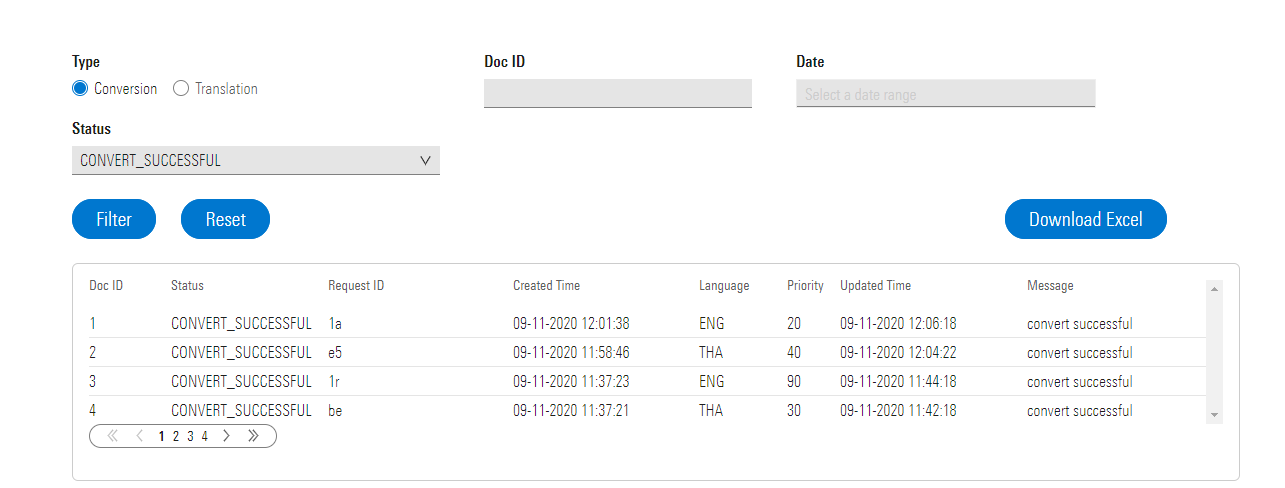div_rect: (68, 259, 1244, 483), (71, 142, 442, 178), (792, 76, 1098, 108), (480, 76, 755, 109)
div_round: (1005, 198, 1168, 241), (87, 423, 277, 450), (178, 198, 271, 240), (70, 197, 156, 240)
down_arrow: (419, 154, 432, 164)
left_arrow: (135, 428, 146, 443)
leftd_arrow: (106, 428, 119, 443)
radio: (70, 79, 88, 96), (171, 80, 190, 96)
right_arrow: (221, 428, 231, 442)
rightd_arrow: (246, 428, 259, 444)
scroll: (1203, 279, 1223, 424)
text: (170, 343, 313, 361), (80, 151, 222, 169), (170, 372, 311, 390), (170, 314, 314, 331), (171, 402, 314, 419), (839, 314, 959, 332), (1029, 211, 1146, 229), (512, 372, 632, 389), (805, 85, 918, 103), (839, 402, 958, 419), (511, 343, 631, 359), (839, 373, 959, 389), (512, 314, 631, 330), (512, 402, 630, 418), (1025, 314, 1133, 331), (1026, 344, 1134, 361), (839, 345, 958, 360), (1024, 374, 1135, 389), (1024, 403, 1135, 418), (838, 277, 913, 294), (194, 80, 259, 96), (512, 278, 582, 292), (94, 81, 158, 96), (698, 277, 751, 294), (327, 277, 385, 292), (205, 209, 247, 228), (1024, 278, 1076, 293), (94, 208, 132, 227), (484, 52, 525, 68), (70, 120, 112, 135), (785, 277, 824, 293), (71, 52, 100, 70), (88, 277, 124, 291), (171, 277, 204, 291), (796, 53, 825, 68), (699, 314, 724, 331), (698, 373, 726, 388), (698, 344, 724, 359), (698, 402, 724, 417), (327, 314, 343, 330), (327, 343, 343, 359), (327, 402, 343, 418), (786, 315, 803, 330), (786, 402, 802, 417), (786, 374, 803, 388), (328, 373, 342, 388), (787, 345, 801, 359), (88, 402, 98, 419), (87, 372, 97, 388), (186, 428, 197, 442), (88, 343, 97, 359), (88, 313, 97, 328), (200, 429, 209, 443), (157, 429, 167, 441), (172, 429, 181, 441)
triangle_down: (1208, 410, 1219, 417)
triangle_up: (1210, 285, 1220, 291)
